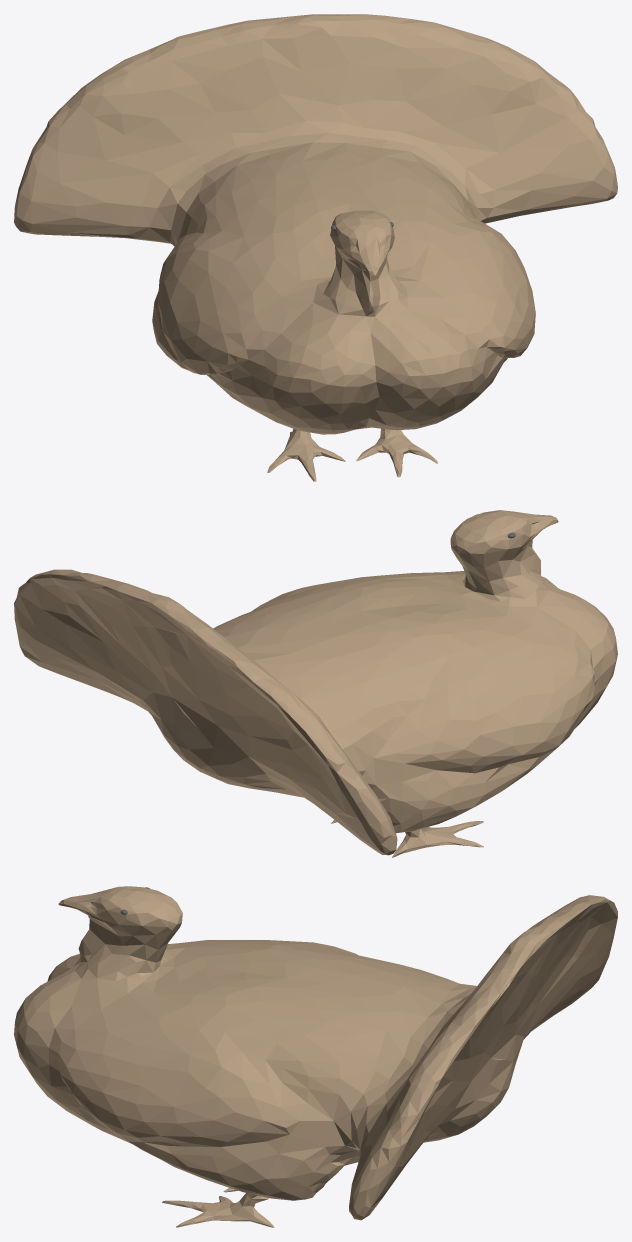
3 renders of one model, top to bottom at view 1: azimuth 30°, elevation 25°; view 2: azimuth 150°, elevation 25°; view 3: azimuth 270°, elevation 25°, orthographic. The views are drawn at different scales.
Parts seen in each view (by area): view 1: Mesh_Mesh_head_geo.001_lambert2SG.001; view 2: Mesh_Mesh_head_geo.001_lambert2SG.001; view 3: Mesh_Mesh_head_geo.001_lambert2SG.001.
Boxes of the visible parts, x1,y1,x2,y2 form: Mesh_Mesh_head_geo.001_lambert2SG.001: (14, 14, 617, 481); Mesh_Mesh_head_geo.001_lambert2SG.001: (14, 510, 617, 857); Mesh_Mesh_head_geo.001_lambert2SG.001: (14, 886, 617, 1227).
Size of the model in its own units: 48.23 by 29 by 50.71.
